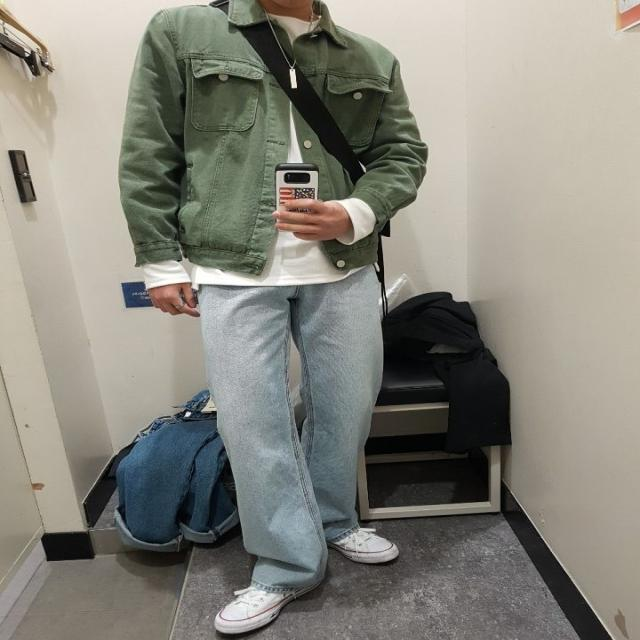denimpants: (193, 262, 386, 598)
jacket: (116, 0, 428, 279)
